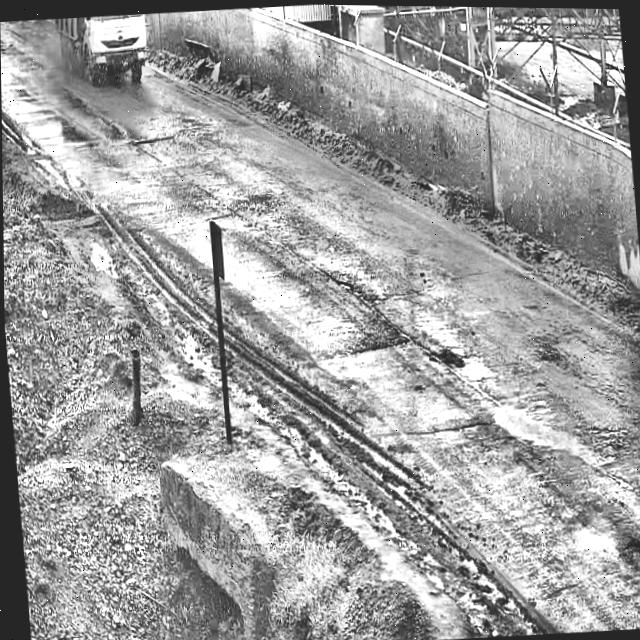dump_truck: (50, 12, 153, 97)
